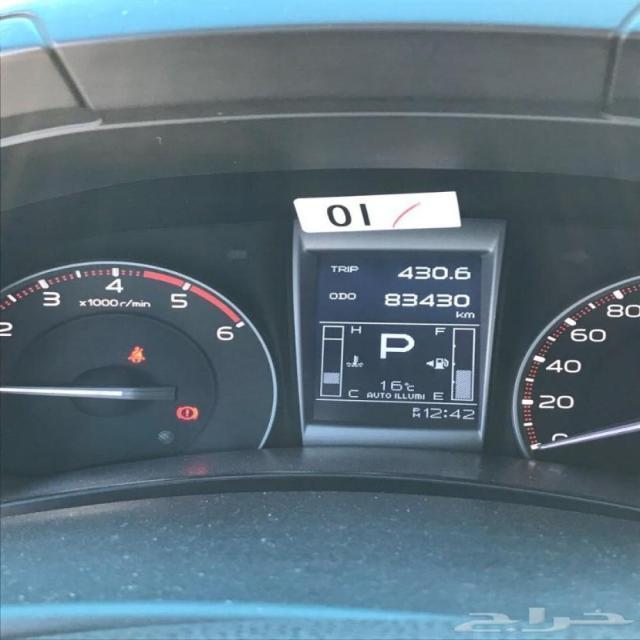Seat Belt: (129, 344, 145, 364)
